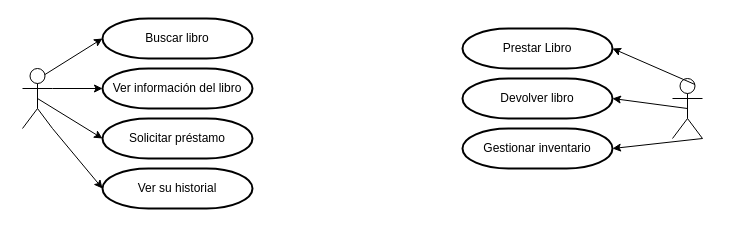
Image size: 737x226. Some labels were removed from this diagram. The centre of each missing label's shape, as x and y in pixels:
"Bibliotecario" belongs at (x=687, y=108).
"Usuario" belongs at (x=37, y=98).
